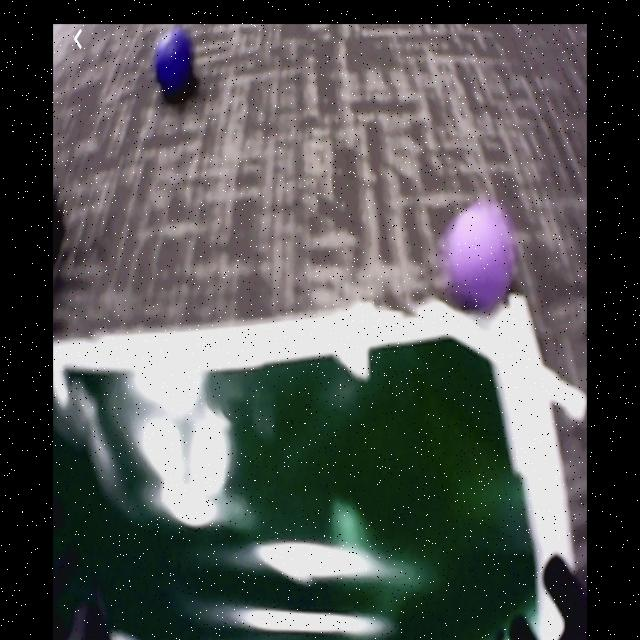ball: (452, 209, 512, 308), (155, 28, 195, 100)
